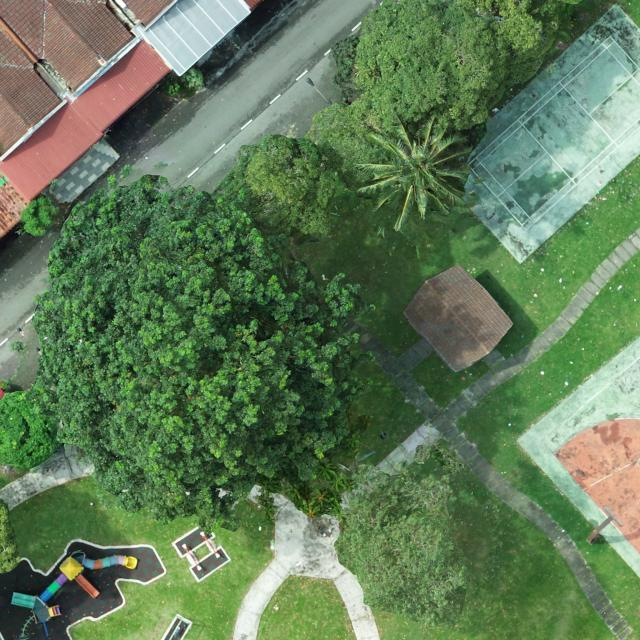tree: (29, 174, 378, 525), (333, 441, 472, 630), (353, 0, 540, 130), (354, 112, 478, 230), (212, 134, 350, 237), (304, 103, 388, 182), (0, 389, 64, 470)
